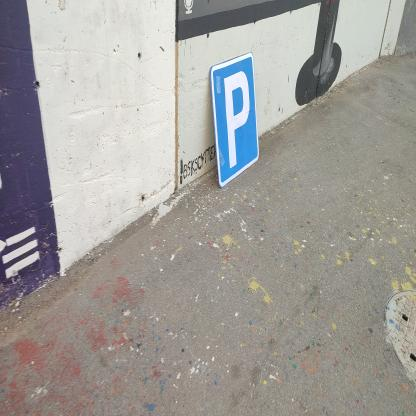Parking-Sign: (211, 52, 261, 190)
